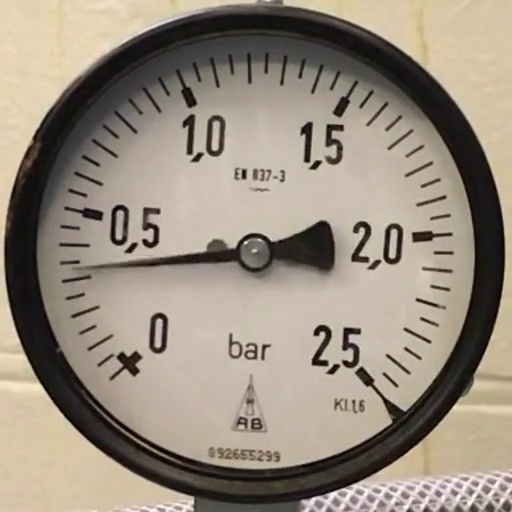base: (237, 233, 273, 274)
circle_plate: (36, 36, 470, 465)
maximum: (355, 365, 374, 387)
minimum: (116, 348, 142, 376)
number: (350, 220, 403, 270), (310, 324, 361, 375), (108, 203, 162, 251), (181, 112, 227, 163), (300, 121, 345, 171), (146, 310, 168, 356)
tip: (71, 266, 78, 272)
